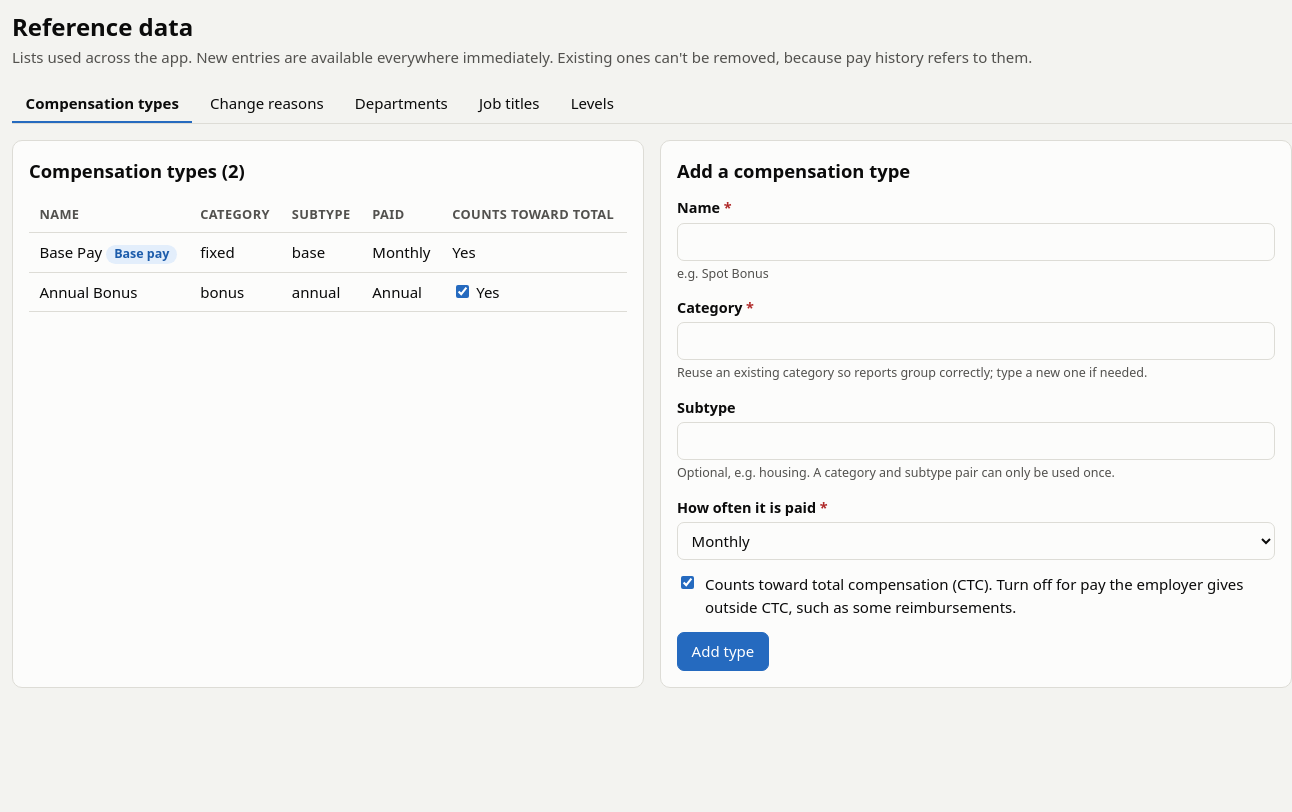
it: compensation types › asks for what's missing before sending anything
Click the button "Add type". click: (723, 651)
box: [677,632,769,671]
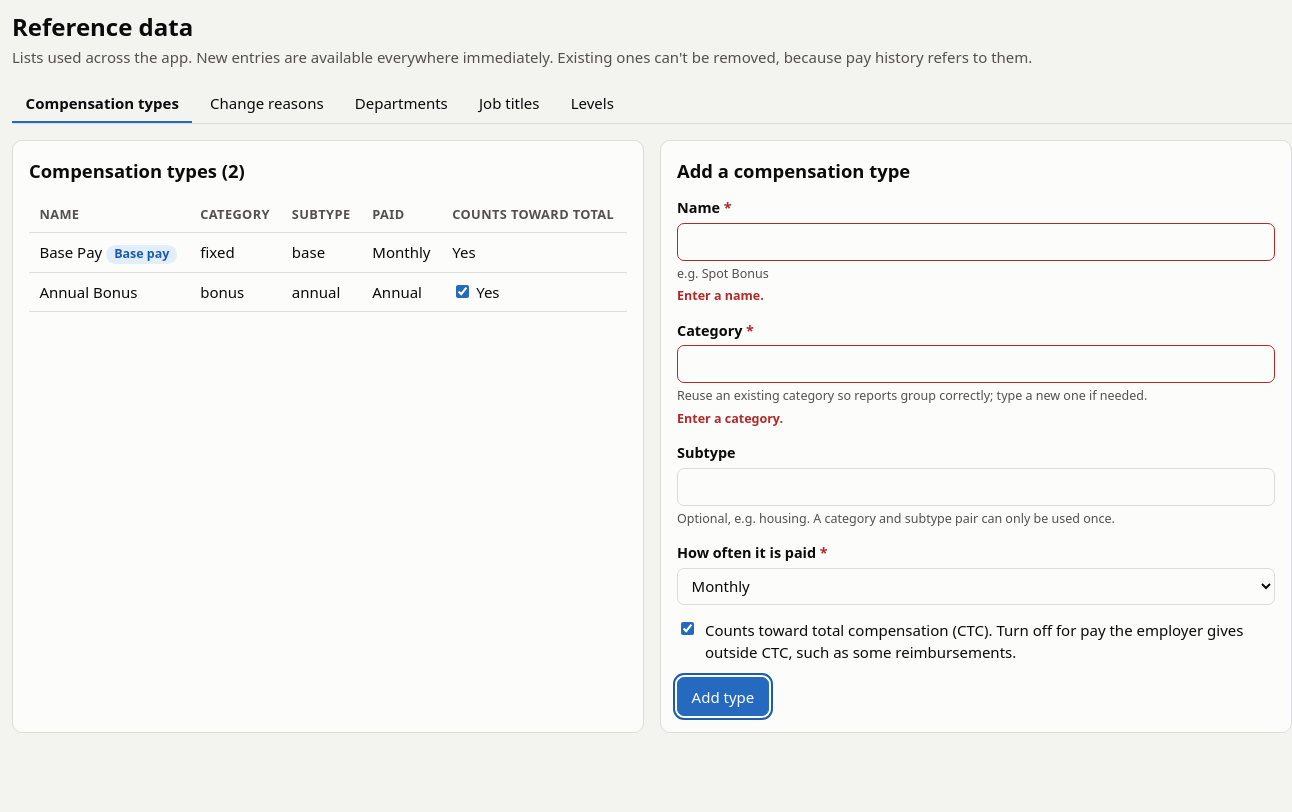
Expected: the text "Enter a name." is shown, [677,287,764,304]
Expected: the text "Enter a category." is shown, [677,410,783,427]
